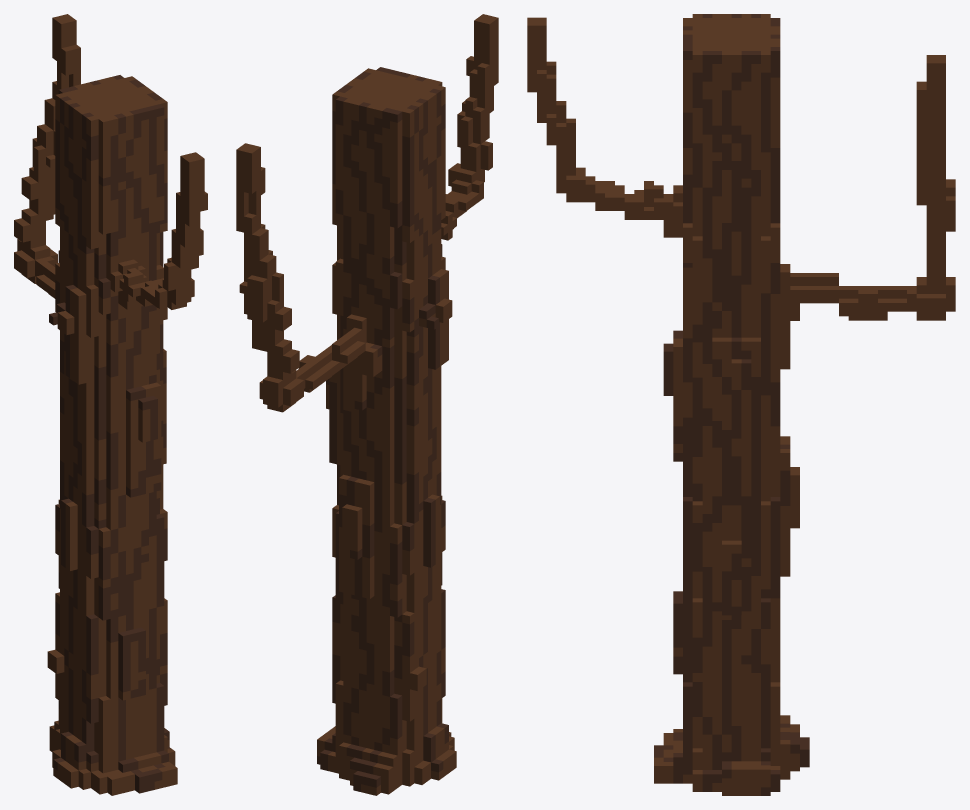
The model's file is trunk_5.obj.
The picture shows the model from 3 angles, left to right: view 1: azimuth 30°, elevation 25°; view 2: azimuth 150°, elevation 25°; view 3: azimuth 270°, elevation 25°; orthographic projection. The views are drawn at different scales.
Bounding box in the file's own units: 1.4 × 8.4 × 4.4.
1 material, 1 textured.
